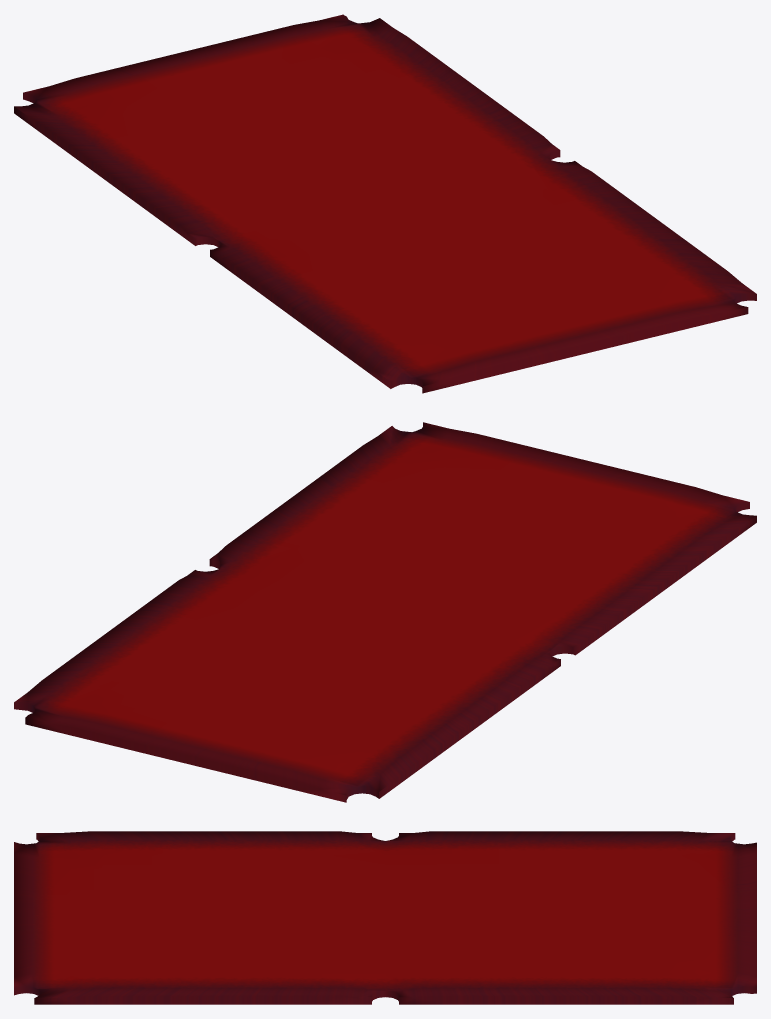
The model's file is FbxPaño.fbx.
3 renders of one model, top to bottom at view 1: azimuth 30°, elevation 25°; view 2: azimuth 150°, elevation 25°; view 3: azimuth 270°, elevation 25°, orthographic. The views are drawn at different scales.
Parts seen in each view (by area): view 1: Paño; view 2: Paño; view 3: Paño.
Boxes of the visible parts, x1,y1,x2,y2 form: Paño: (14,14,756,393); Paño: (14,422,756,802); Paño: (14,831,756,1004).
Bounding box in the file's own units: 124 × 2.83 × 236.
1 material, 1 textured.
